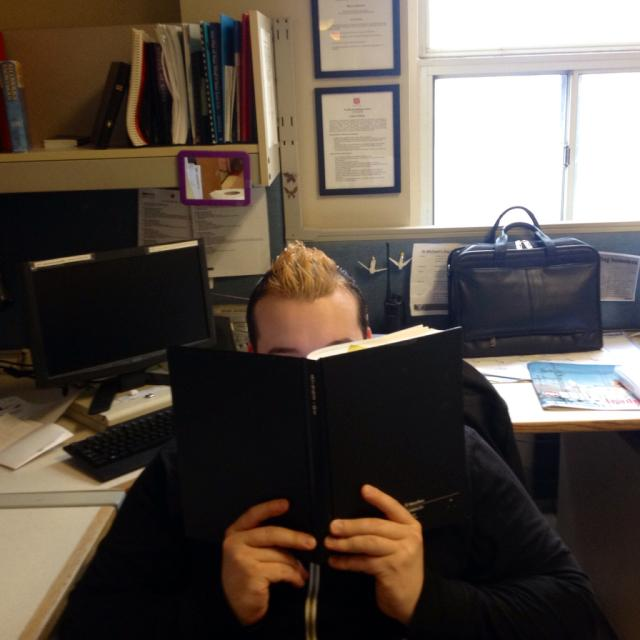desk: (0, 508, 112, 640)
keyboard: (62, 405, 176, 484)
tv: (22, 239, 217, 390)
